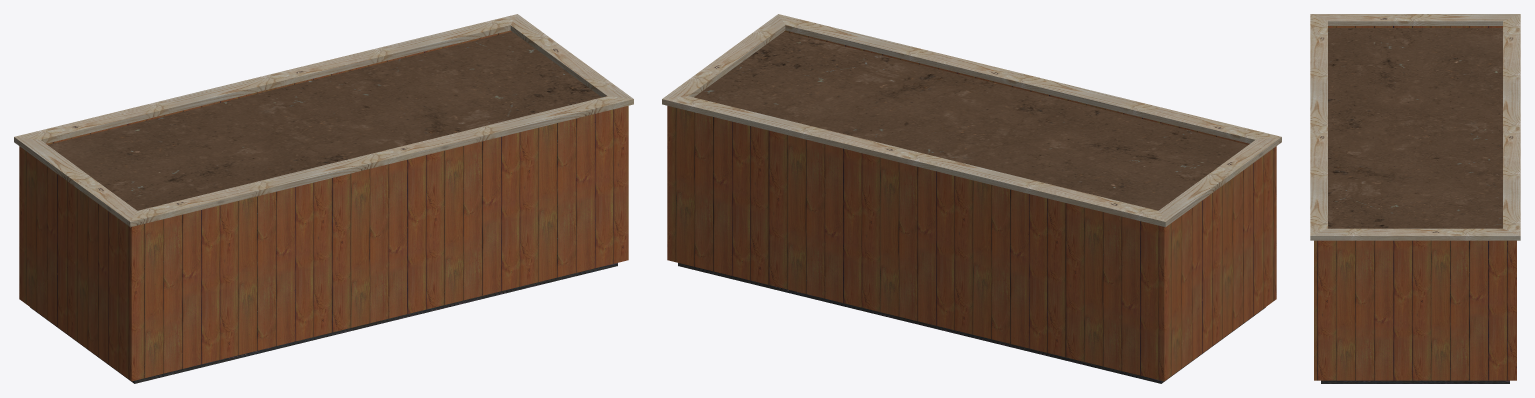
File: GardenPlanter01_2.FBX
The picture shows the model from 3 angles, left to right: view 1: azimuth 30°, elevation 25°; view 2: azimuth 150°, elevation 25°; view 3: azimuth 270°, elevation 25°; orthographic projection. The views are drawn at different scales.
Parts seen in each view (by area): view 1: GardenPlanter01_2; view 2: GardenPlanter01_2; view 3: GardenPlanter01_2.
Part boxes in pixels (x1,y1,x2,y2): GardenPlanter01_2: (14,14,633,383); GardenPlanter01_2: (662,14,1281,383); GardenPlanter01_2: (1310,14,1520,383).
Size of what is drawn, in the model's own units: 1.5 by 0.48 by 0.6.
